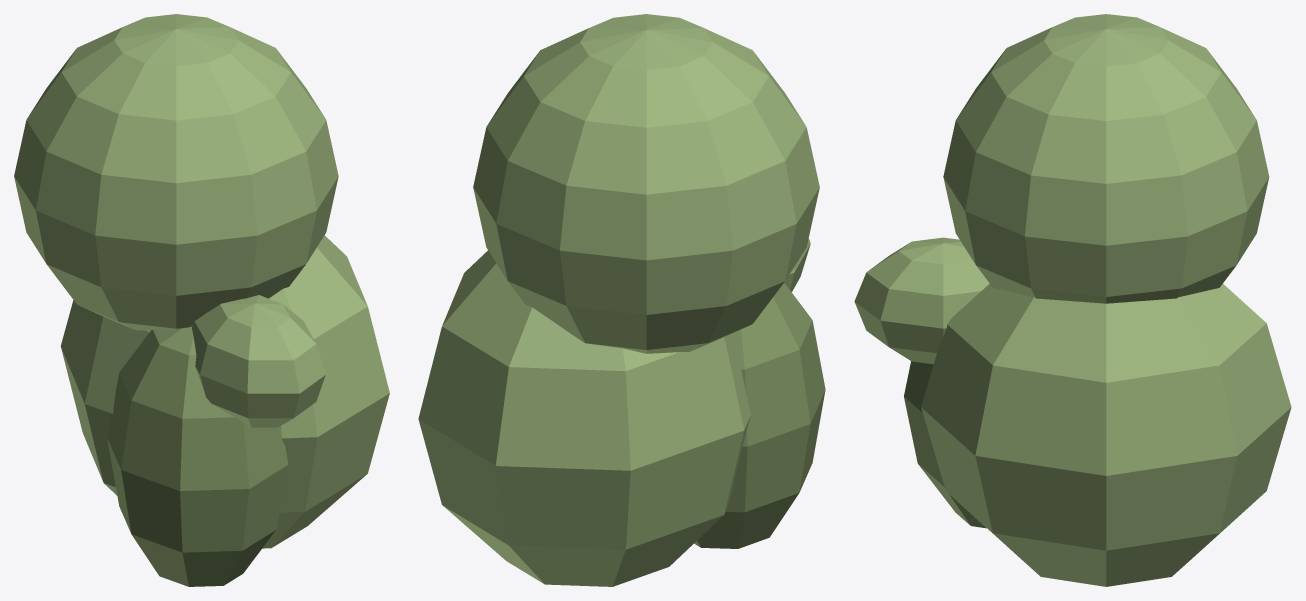
The model's file is SM_Orc_Hand_L.fbx.
The picture shows the model from 3 angles, left to right: view 1: azimuth 30°, elevation 25°; view 2: azimuth 150°, elevation 25°; view 3: azimuth 270°, elevation 25°; orthographic projection. The views are drawn at different scales.
Visible parts, largest first — view 1: SM_Orc_Hand_L; view 2: SM_Orc_Hand_L; view 3: SM_Orc_Hand_L.
Boxes of the visible parts, x1,y1,x2,y2 form: SM_Orc_Hand_L: (14, 14, 389, 586); SM_Orc_Hand_L: (418, 14, 825, 586); SM_Orc_Hand_L: (854, 14, 1291, 586).
Bounding box in the file's own units: 0.155 × 0.2332 × 0.177.
